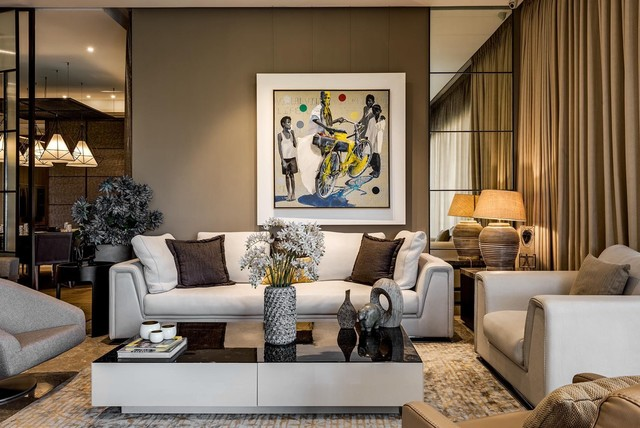chair: (109, 233, 455, 341), (474, 247, 640, 401), (406, 372, 639, 428), (1, 268, 85, 372)
